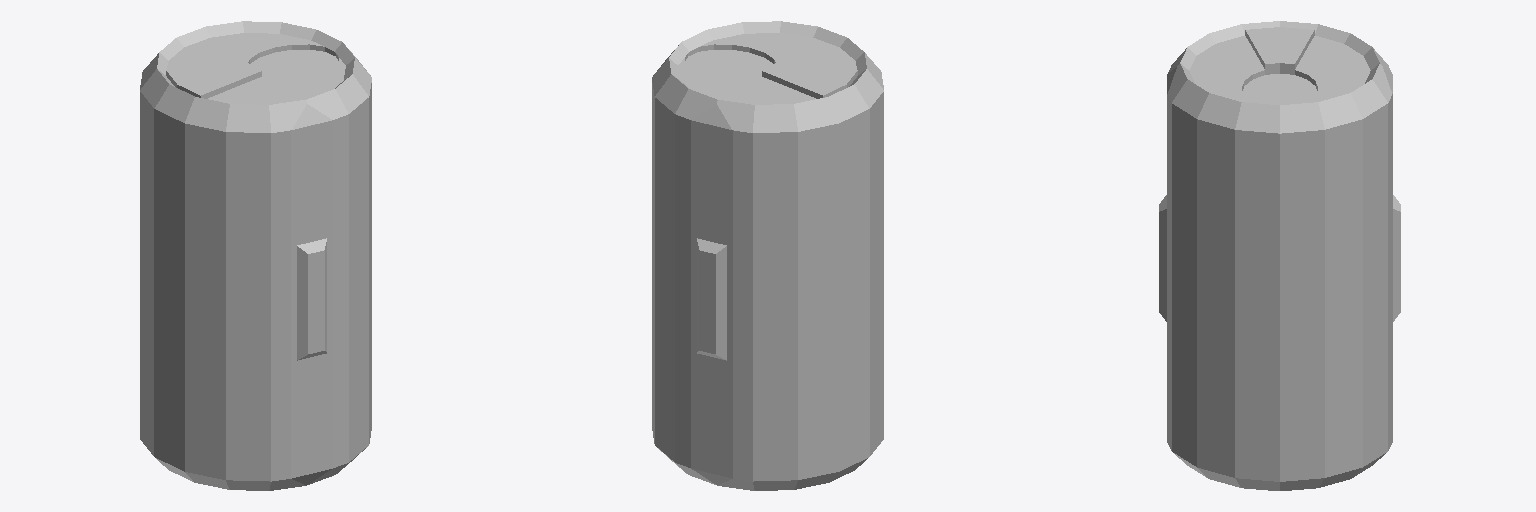
File: can.obj
3 renders of one model, left to right at view 1: azimuth 30°, elevation 25°; view 2: azimuth 150°, elevation 25°; view 3: azimuth 270°, elevation 25°, orthographic.
Parts seen in each view (by area): view 1: Cylinder1; view 2: Cylinder1; view 3: Cylinder1.
Boxes of the visible parts, <box> form: Cylinder1: <box>140,21,371,490</box>; Cylinder1: <box>652,21,883,490</box>; Cylinder1: <box>1159,21,1400,490</box>.
Bounding box in the file's own units: 0.496 × 0.8998 × 0.5104.